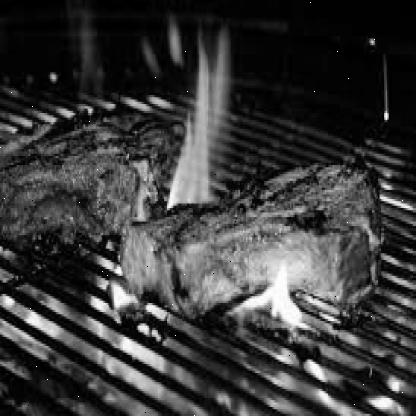fire: (5, 243, 171, 416), (159, 20, 240, 207), (257, 339, 409, 416), (226, 249, 311, 351)
